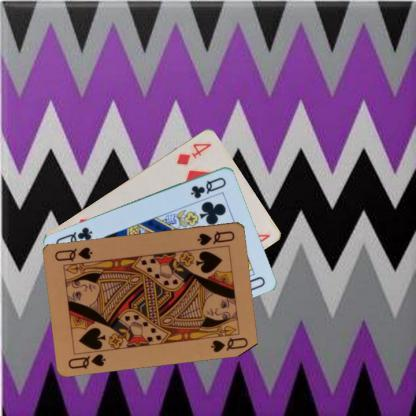4d: (174, 140, 213, 166)
Qc: (188, 174, 228, 199)
Qs: (66, 350, 107, 370), (195, 228, 236, 246)
